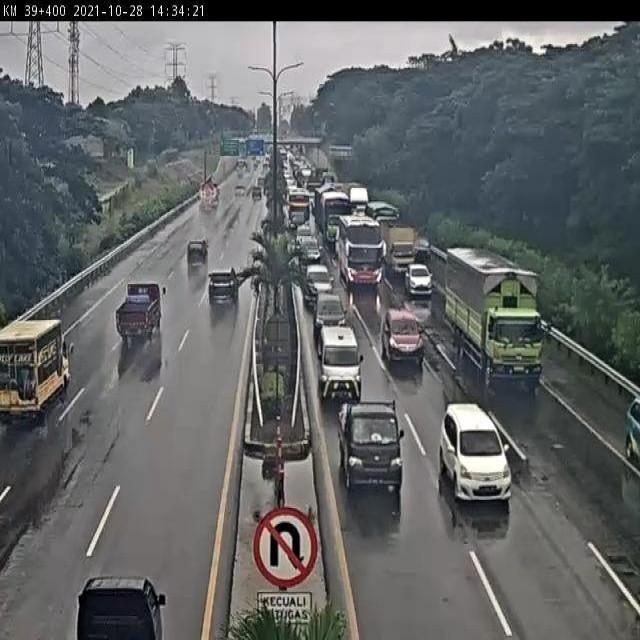big bus: (340, 215, 383, 284), (320, 190, 353, 242), (283, 195, 311, 236)
car: (440, 402, 513, 506), (338, 401, 406, 495), (72, 578, 167, 640), (317, 327, 364, 402), (383, 308, 427, 365), (206, 268, 240, 312), (317, 292, 344, 337), (403, 260, 432, 299), (305, 260, 332, 301), (186, 239, 210, 268), (297, 238, 318, 266), (292, 220, 309, 240)
small truck: (0, 317, 72, 424), (117, 283, 169, 344), (382, 223, 418, 276)
truck-l-: (442, 248, 544, 384)
